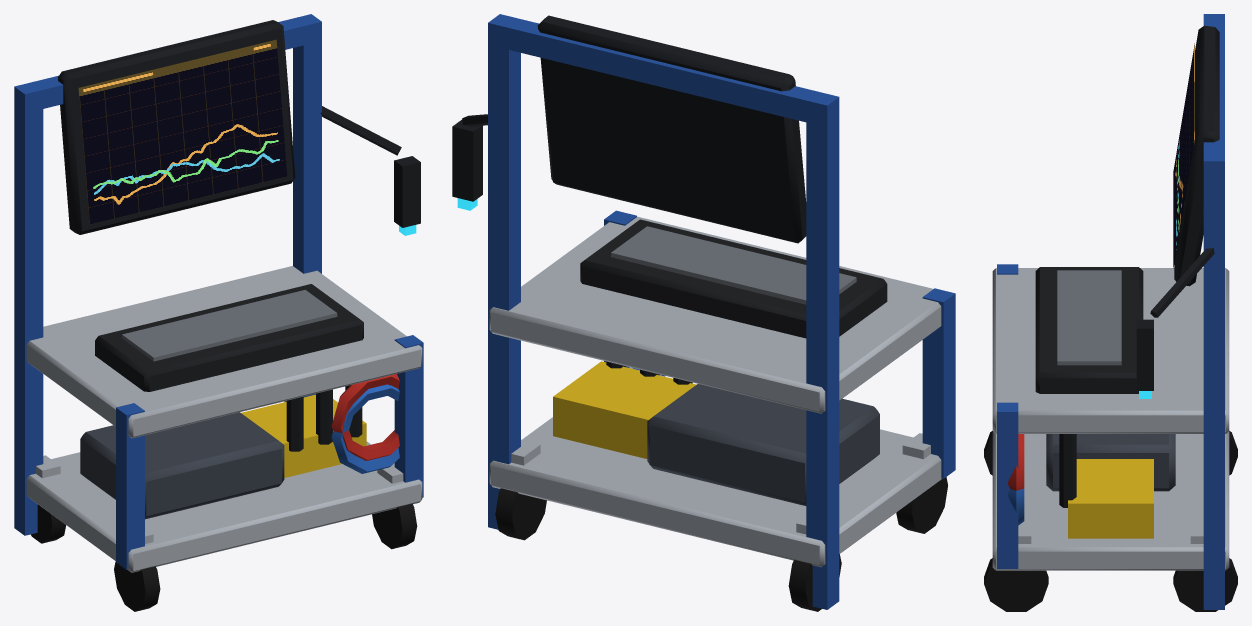
Rendered from hangartool_diagnostics_cart.glb.
3 views of the same model, side by side, from view 1: azimuth 30°, elevation 25°; view 2: azimuth 150°, elevation 25°; view 3: azimuth 270°, elevation 25° (orthographic). The views are drawn at different scales.
Visible parts, largest first — view 1: hangartool_diagnostics_cart; view 2: hangartool_diagnostics_cart; view 3: hangartool_diagnostics_cart.
Part boxes in pixels (x1=…): hangartool_diagnostics_cart: x1=14, y1=14, x2=423, y2=611; hangartool_diagnostics_cart: x1=452, y1=14, x2=955, y2=611; hangartool_diagnostics_cart: x1=984, y1=14, x2=1237, y2=611.
Bounding box in the file's own units: 0.99 × 1.2 × 0.59.
Materials: 12 (1 with a texture image).
